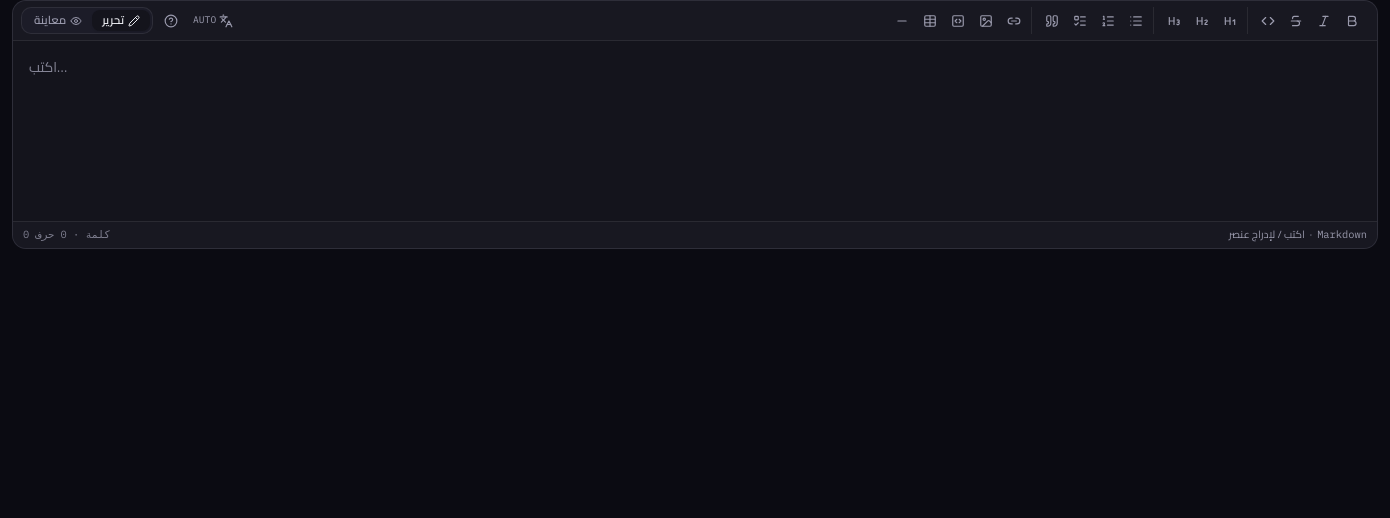
Test: MarkdownEditor › closes the slash menu on Escape without touching the text
The image size is (1390, 518).
Type "/" into the text box named "الوصف" at (695, 131), box [13,41,1377,221]
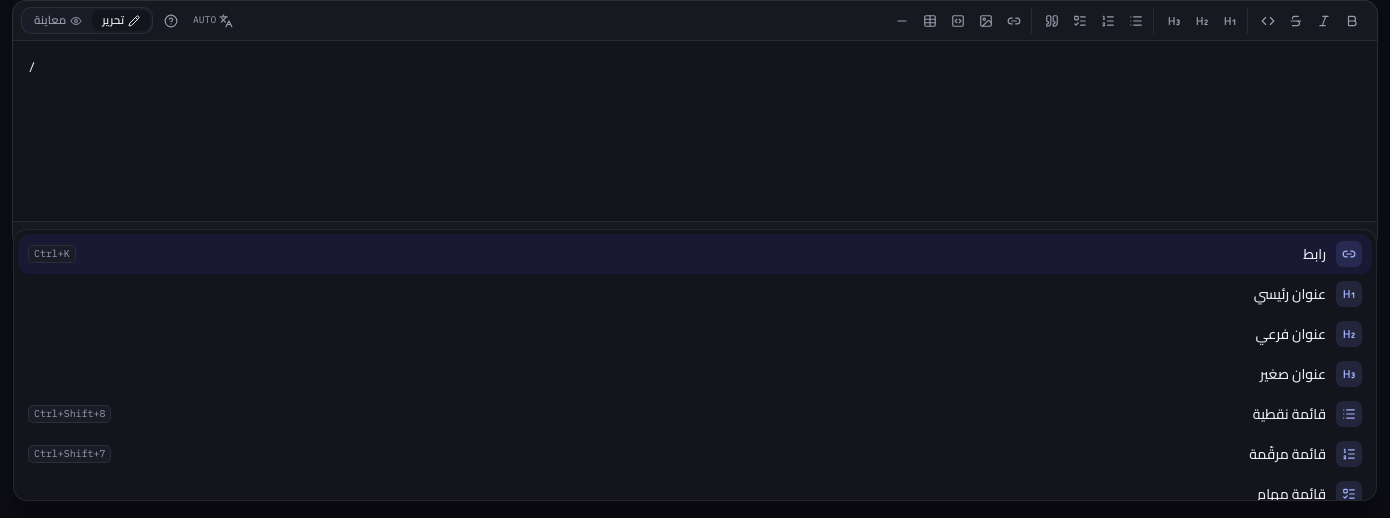
Expected: the list is shown, [13,229,1377,501]
Press Escape in the text box named "الوصف", box [13,41,1377,221]
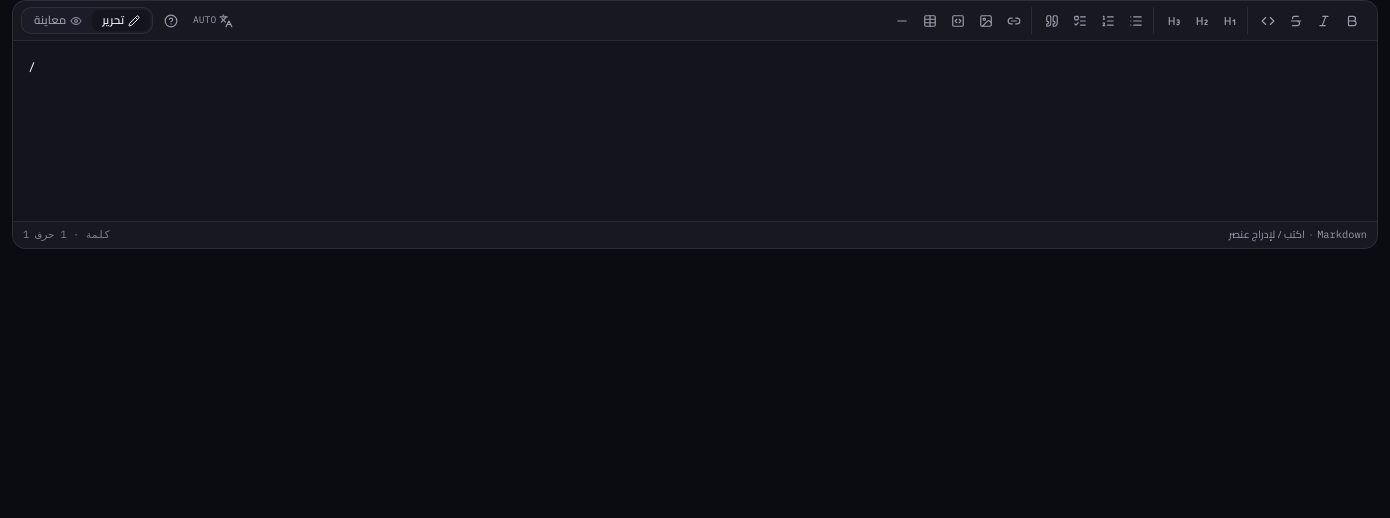
Expected: the list is gone
